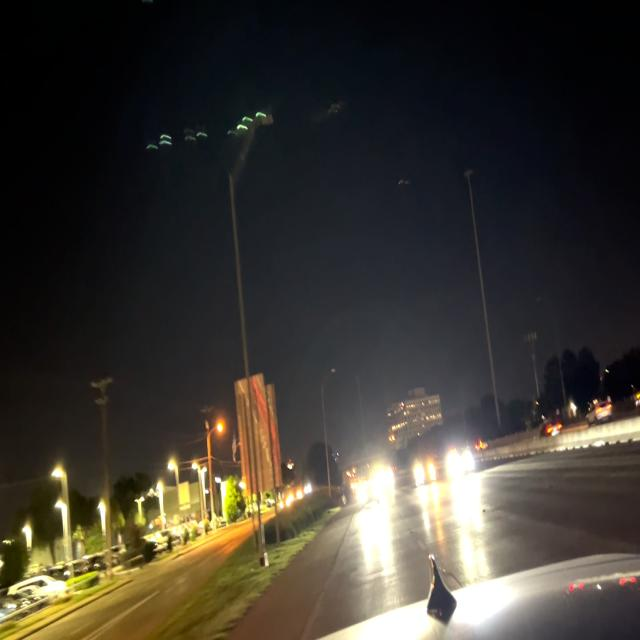back-of-sign: (235, 375, 285, 499)
